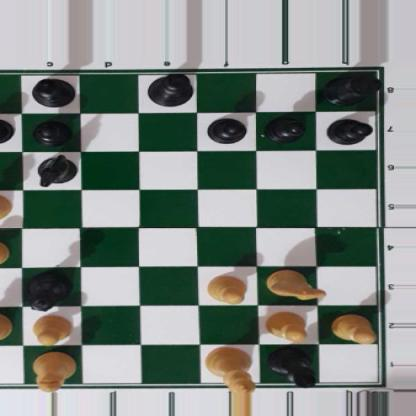black-bishop: (268, 346, 318, 387), (27, 78, 78, 107)
black-king: (144, 72, 194, 106)
black-knight: (34, 154, 78, 187)
black-pawn: (326, 116, 370, 145), (266, 114, 305, 142), (207, 115, 246, 143), (32, 118, 70, 145), (0, 117, 11, 144)
black-queen: (26, 269, 75, 314)
black-rook: (324, 72, 382, 105)
white-bishop: (31, 351, 76, 392), (0, 192, 11, 222)
white-king: (203, 346, 256, 394)
white-knight: (265, 268, 327, 301)
white-pawn: (263, 310, 309, 343), (31, 314, 73, 346), (330, 313, 375, 342), (206, 274, 249, 304), (0, 238, 10, 266)
white-rook: (0, 310, 12, 351)
